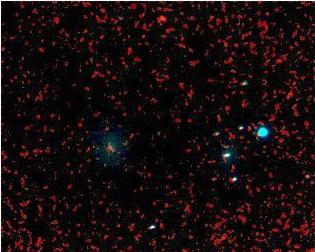star: (149, 1, 179, 31)
